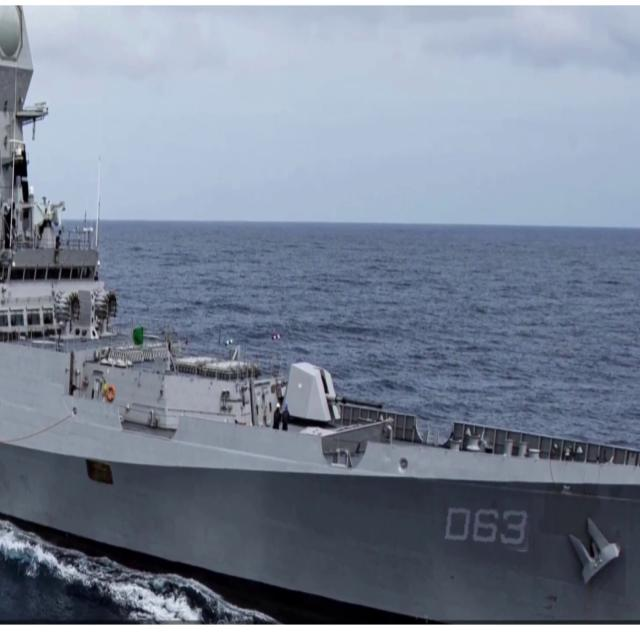OCR: (444, 500, 535, 558)
